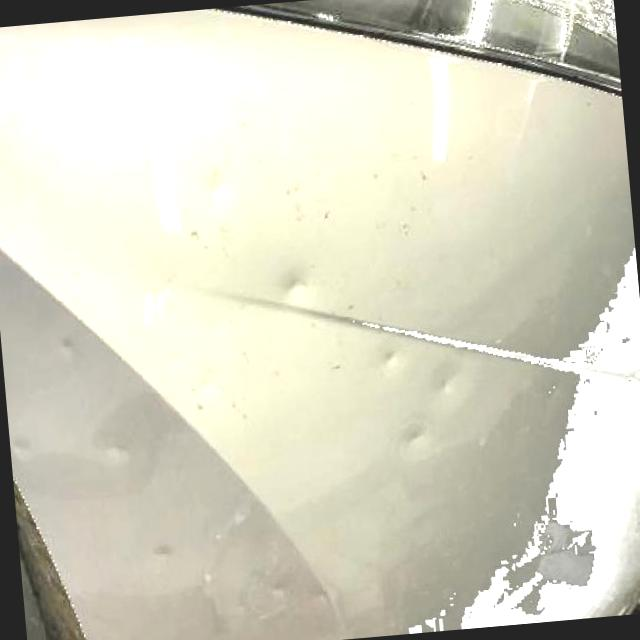dent: (96, 434, 132, 465), (202, 178, 234, 206), (432, 370, 459, 400), (402, 426, 434, 450), (283, 275, 310, 303), (310, 581, 335, 609), (53, 332, 80, 357), (8, 430, 30, 460), (612, 326, 633, 352), (377, 342, 399, 366), (150, 540, 172, 560)
